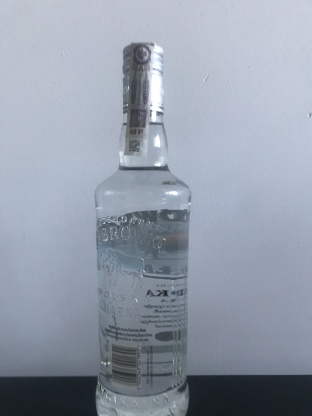nakretka: (119, 36, 167, 119)
